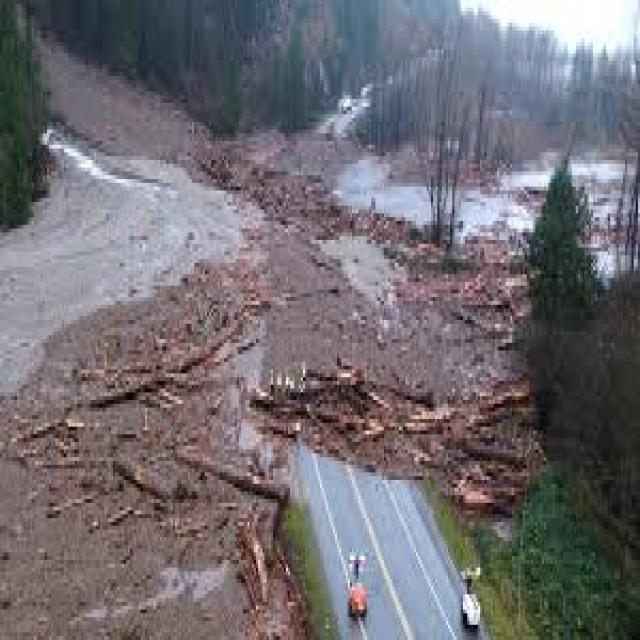landSliding: (56, 67, 490, 501)
